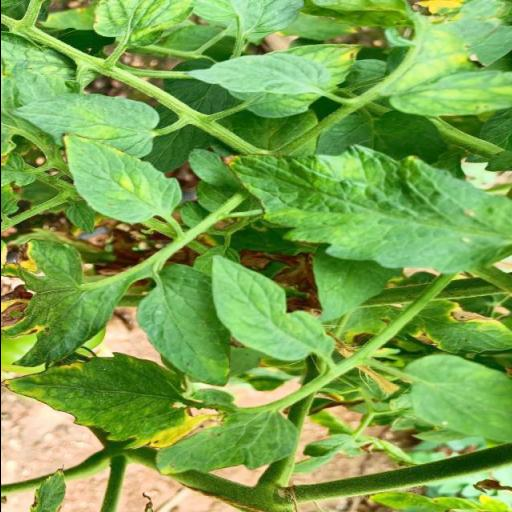disease_tomato: (0, 351, 301, 476), (0, 238, 130, 368), (394, 296, 512, 358)
